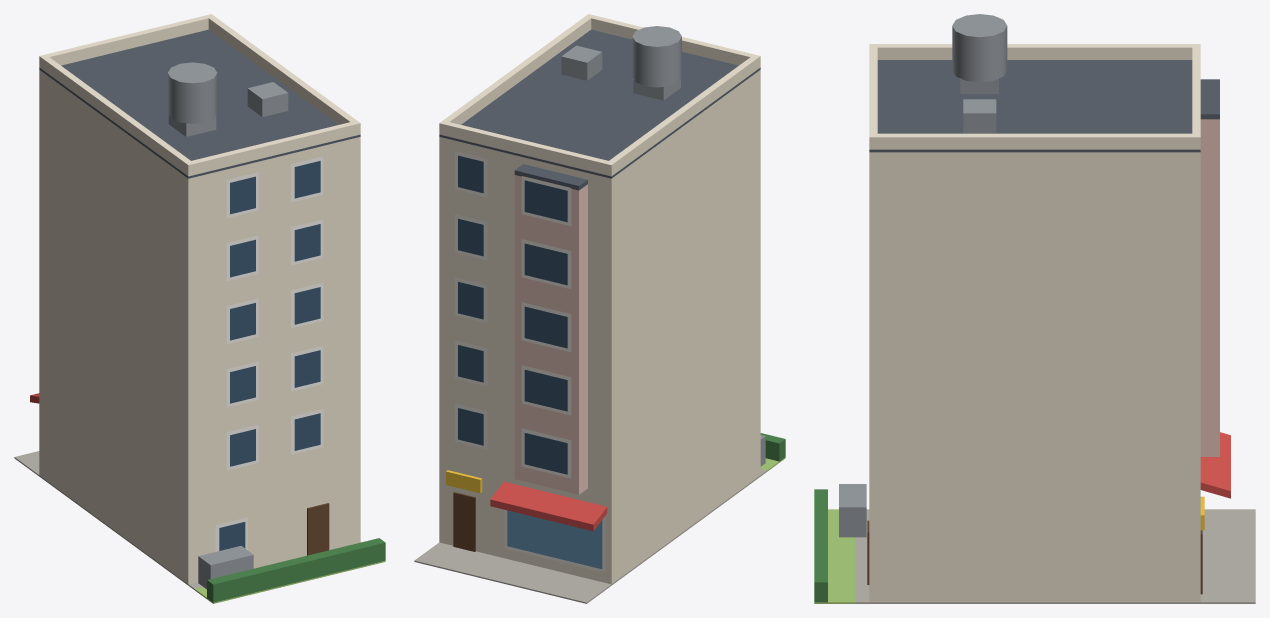
3 views of the same model, side by side, from view 1: azimuth 30°, elevation 25°; view 2: azimuth 150°, elevation 25°; view 3: azimuth 270°, elevation 25° (orthographic). The views are drawn at different scales.
Visible parts, largest first — view 1: wall, roof, parapet (×4), window_glass (×11), hedge, water_tank, window_frame (×5), bin_store, ac_unit, door, paving, tank_base; view 2: wall, roof (×2), bay, window_glass (×10), parapet (×4), window_frame (×10), paving, storefront, awning, water_tank, door, ac_unit (+4 smaller); view 3: wall, roof (×2), parapet (×4), bay, paving, water_tank, lawn, hedge, bin_store, awning, ac_unit.
Part boxes in pixels (x1,y1,x2,y2): wall: [39, 70, 360, 584]; roof: [39, 29, 360, 178]; parapet (×4): [39, 14, 360, 176]; window_glass (×11): [219, 161, 320, 550]; hedge: [207, 538, 385, 602]; water_tank: [167, 62, 217, 123]; window_frame (×5): [291, 156, 323, 454]; bin_store: [198, 545, 253, 589]; ac_unit: [247, 82, 288, 116]; door: [307, 503, 329, 555]; paving: [14, 451, 360, 589]; tank_base: [168, 115, 216, 136]; wall: [439, 70, 760, 584]; roof (×2): [439, 29, 760, 190]; bay: [514, 175, 587, 494]; window_glass (×10): [458, 155, 567, 474]; parapet (×4): [439, 14, 760, 176]; window_frame (×10): [455, 151, 571, 478]; paving: [414, 469, 766, 603]; storefront: [507, 510, 602, 569]; awning: [490, 481, 607, 531]; water_tank: [632, 26, 681, 87]; door: [453, 492, 475, 551]; ac_unit: [561, 45, 602, 80]; wall: [869, 152, 1200, 602]; roof (×2): [869, 60, 1219, 152]; parapet (×4): [869, 44, 1200, 149]; bay: [1200, 119, 1219, 456]; paving: [855, 509, 1255, 603]; water_tank: [952, 14, 1007, 82]; lawn: [814, 509, 855, 603]; hedge: [814, 489, 827, 602]; bin_store: [839, 484, 866, 537]; awning: [1200, 432, 1230, 498]; ac_unit: [963, 99, 996, 133].
Bounding box in the file's own units: 8 × 20.56 × 16.
